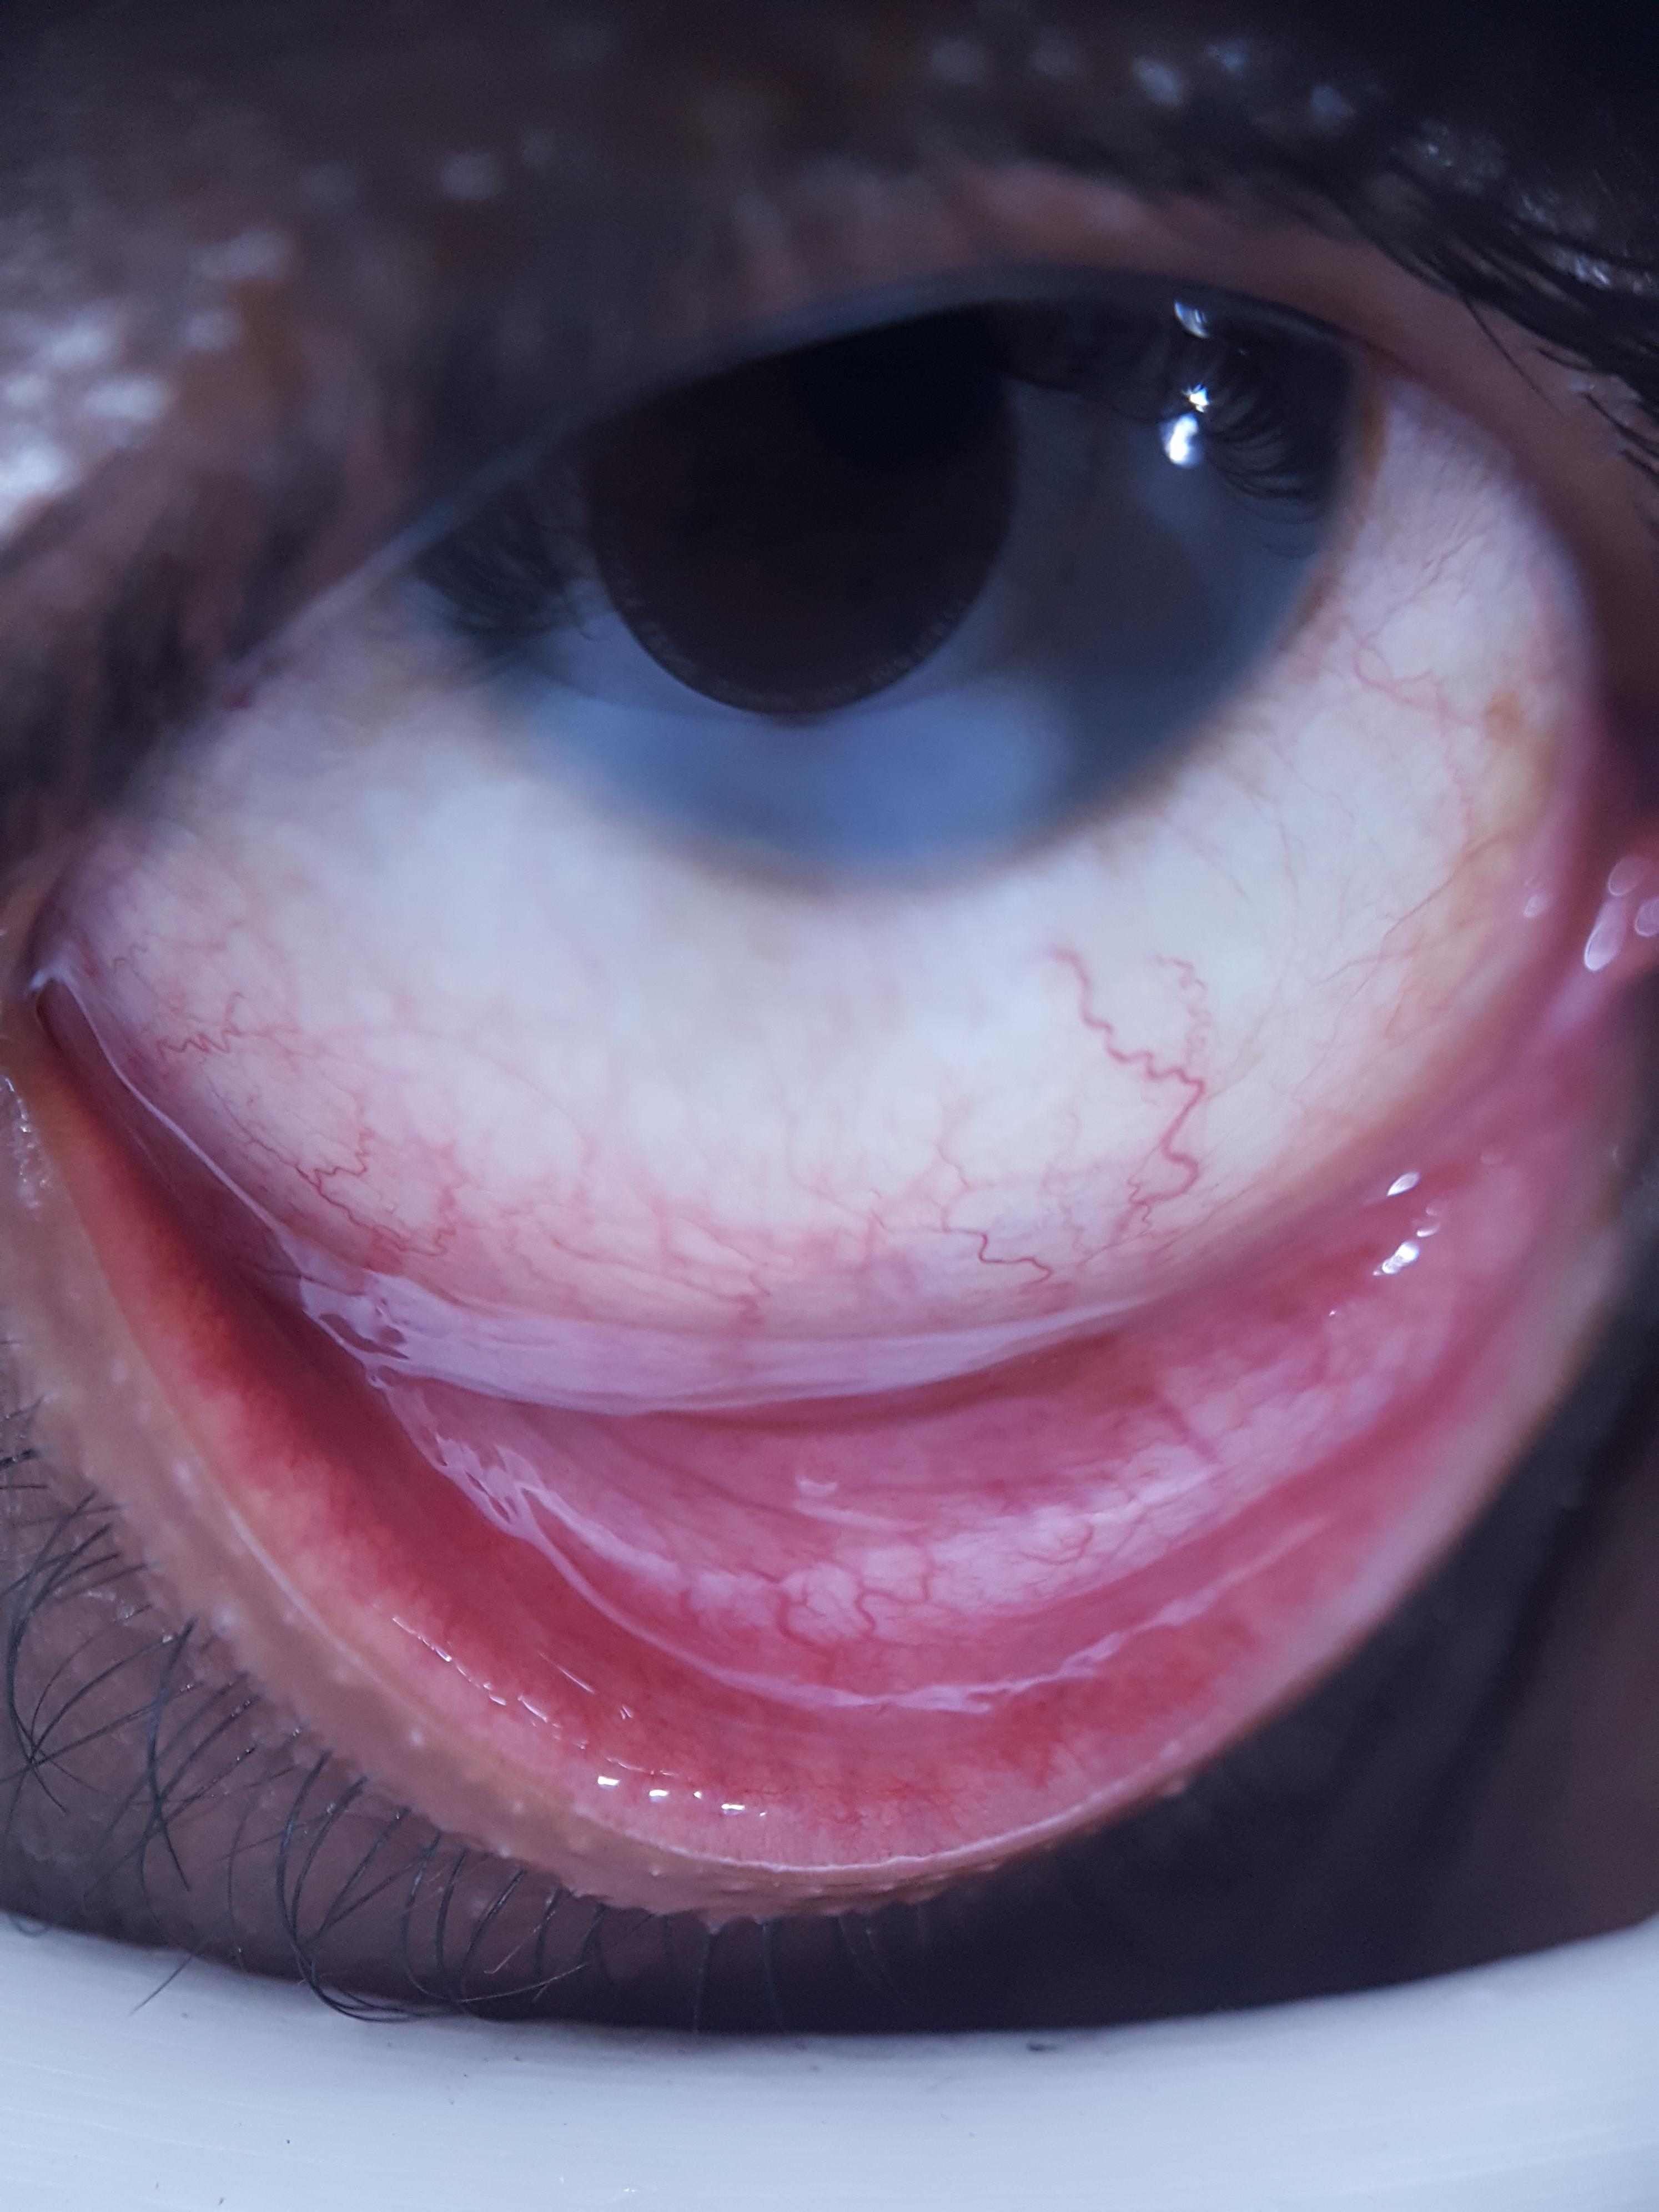forniceal: (281, 1113, 1530, 1707)
forniceal_palpebral: (73, 1089, 1551, 1843)
palpebral: (92, 1097, 1511, 1818)
